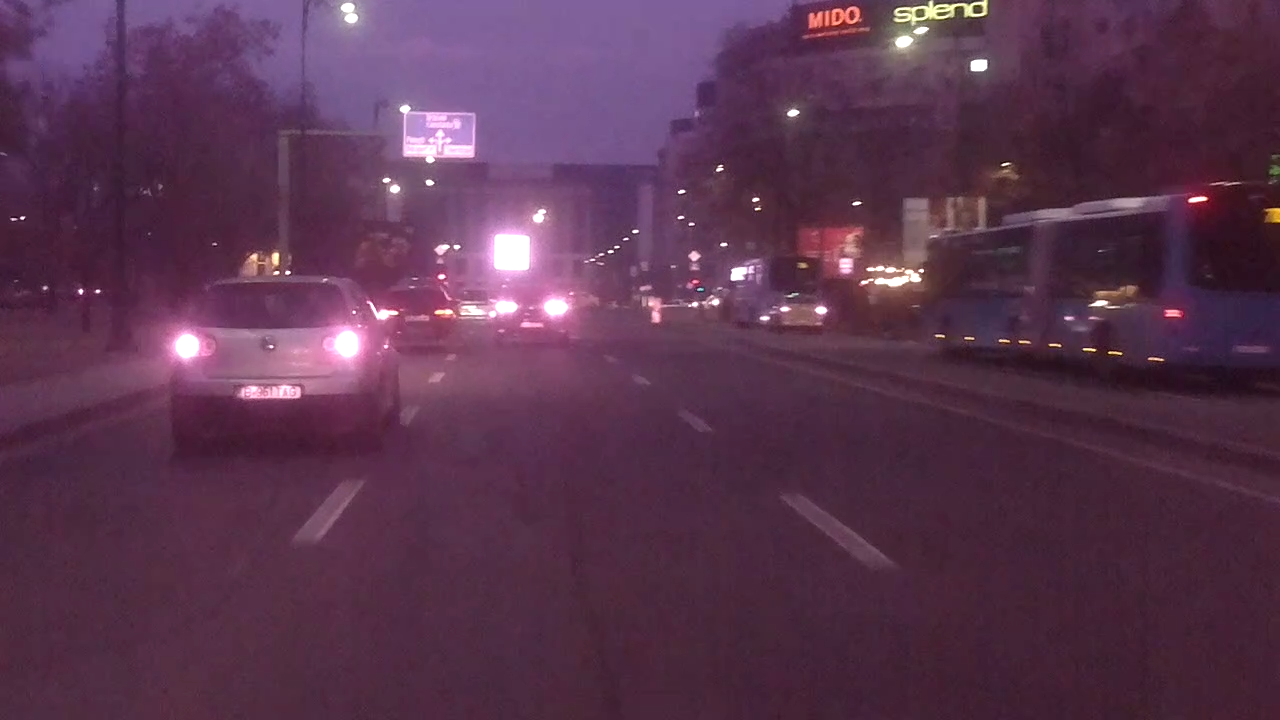license-plate: (235, 382, 303, 400)
